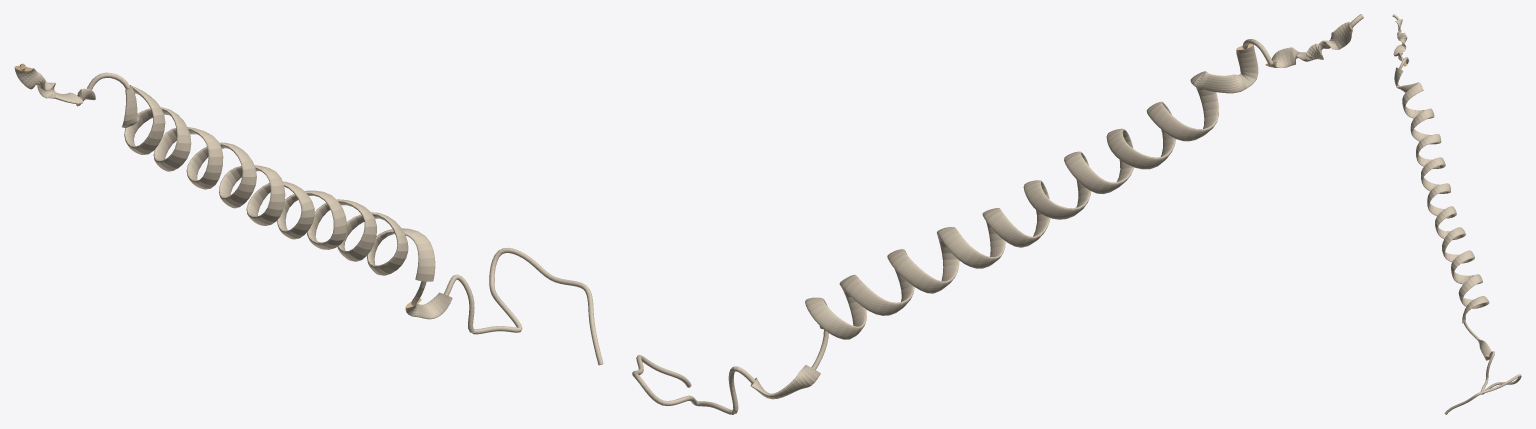
The model's file is fCoilHelixfCoil.dae.
3 views of the same model, side by side, from view 1: azimuth 30°, elevation 25°; view 2: azimuth 150°, elevation 25°; view 3: azimuth 270°, elevation 25° (orthographic). The views are drawn at different scales.
Visible parts, largest first — view 1: Shape_IndexedTriangleStripSet_059; view 2: Shape_IndexedTriangleStripSet_059; view 3: Shape_IndexedTriangleStripSet_059.
Boxes of the visible parts, x1,y1,x2,y2 form: Shape_IndexedTriangleStripSet_059: (14,63,603,365); Shape_IndexedTriangleStripSet_059: (632,14,1363,414); Shape_IndexedTriangleStripSet_059: (1392,14,1521,414).
Size of the model in its own units: 71.65 by 24.55 by 51.81.
